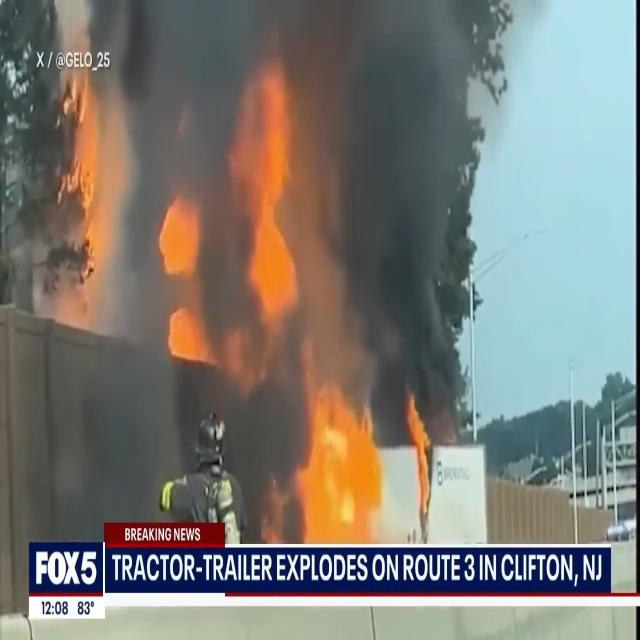fire: (229, 80, 310, 325), (50, 77, 126, 286), (299, 364, 379, 536), (157, 301, 220, 363), (158, 200, 208, 276)
